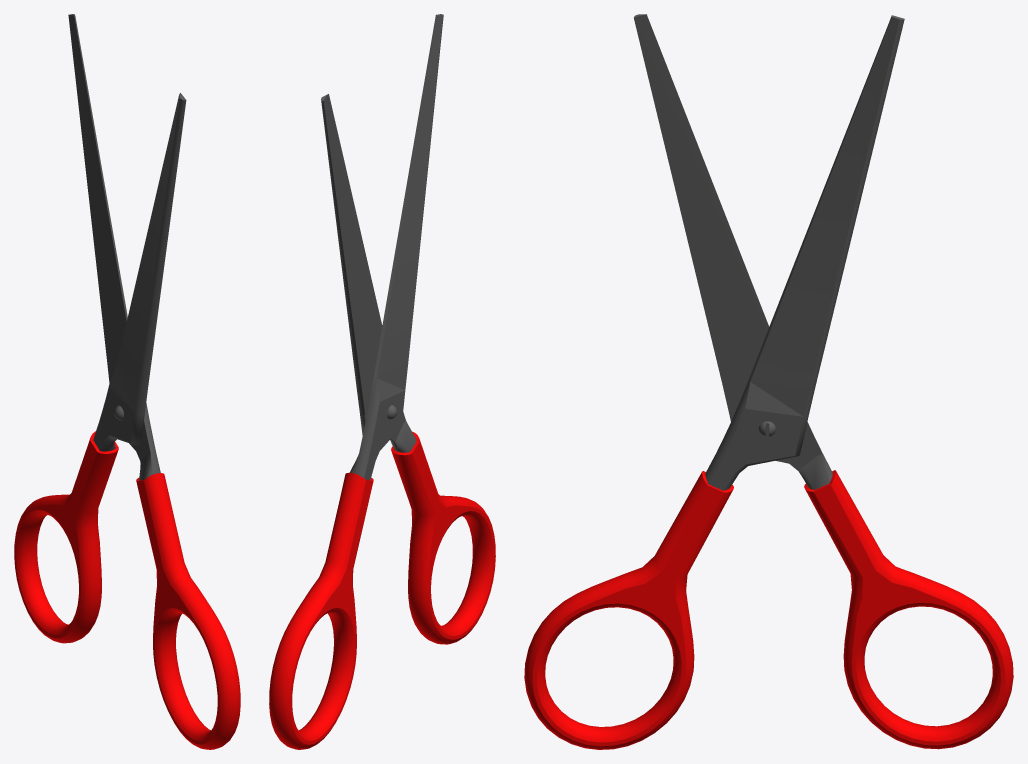
Rendered from Jiandao.FBX.
3 views of the same model, side by side, from view 1: azimuth 30°, elevation 25°; view 2: azimuth 150°, elevation 25°; view 3: azimuth 270°, elevation 25° (orthographic). The views are drawn at different scales.
Visible parts, largest first — view 1: 3D66, nozhnitsy; view 2: 3D66, nozhnitsy; view 3: nozhnitsy, 3D66.
Part boxes in pixels (x1,y1,x2,y2): 3D66: (14, 431, 240, 749); nozhnitsy: (68, 14, 186, 480); 3D66: (269, 431, 495, 749); nozhnitsy: (321, 14, 443, 480); nozhnitsy: (634, 14, 904, 490); 3D66: (524, 470, 1013, 749).
Size of the model in its own units: 1.79 by 42.61 by 25.73.
